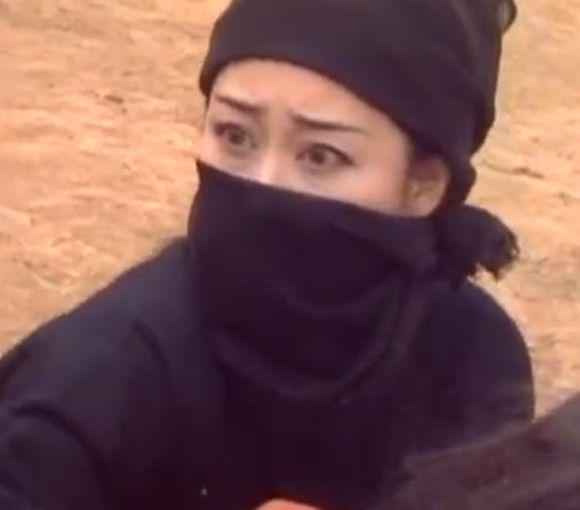OK: (188, 91, 398, 301)
